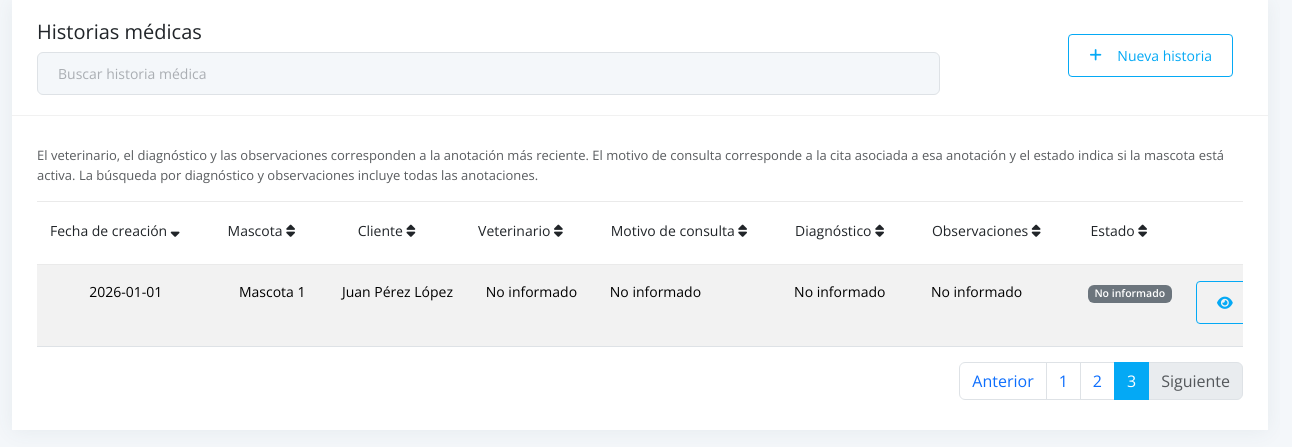
Test: HistoriaComponent › should paginate five records and reset the page when searching
The image size is (1292, 447).
Type "Mascota 11" into the search field with placeholder "Buscar historia médica".
click(488, 74); type("Mascota 11")  # box [37,52,940,95]
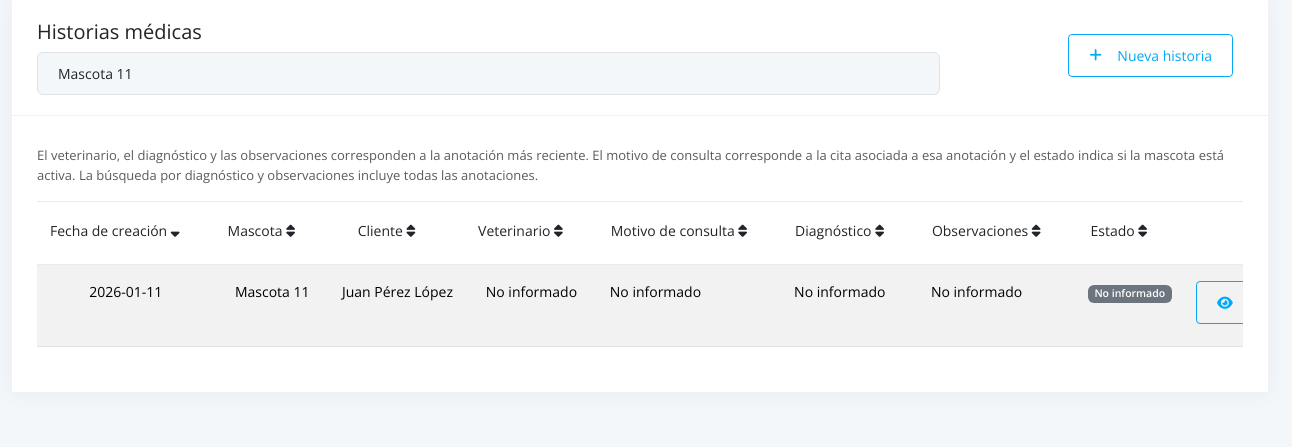
Check: the navigation bar is gone
